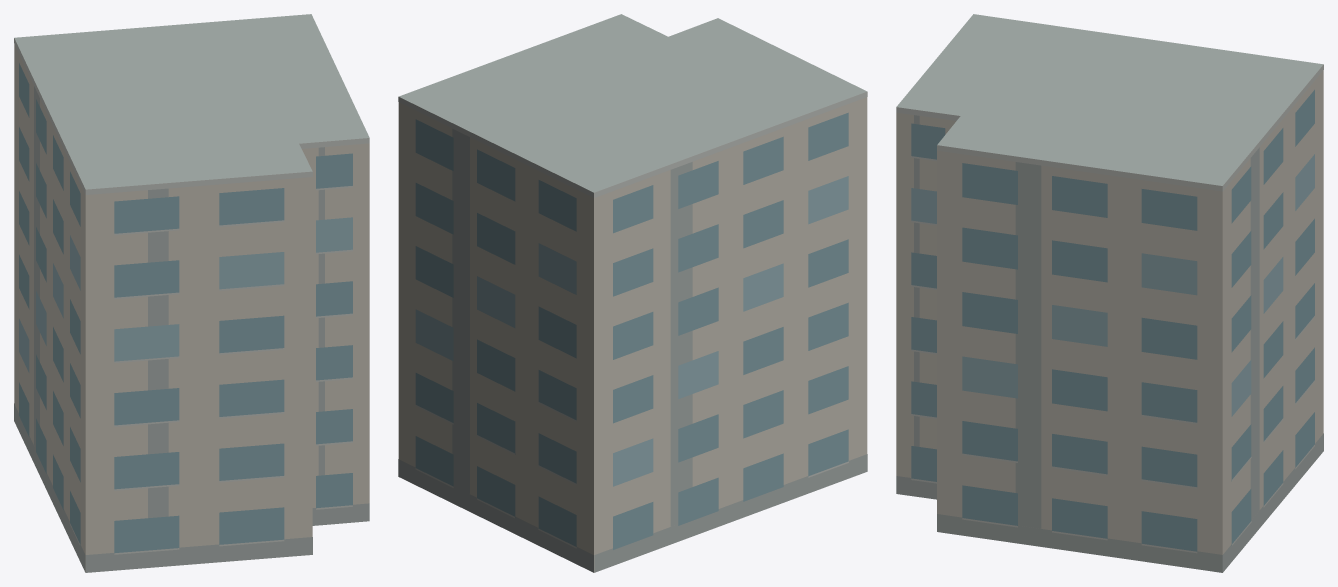
Rendered from survey-upis-32974023.glb.
3 renders of one model, left to right at view 1: azimuth 30°, elevation 25°; view 2: azimuth 150°, elevation 25°; view 3: azimuth 270°, elevation 25°, orthographic.
Parts seen in each view (by area): view 1: survey-upis-32974023.tmp; view 2: survey-upis-32974023.tmp; view 3: survey-upis-32974023.tmp.
Boxes of the visible parts, x1,y1,x2,y2 form: survey-upis-32974023.tmp: (14,14,369,572); survey-upis-32974023.tmp: (398,14,867,572); survey-upis-32974023.tmp: (896,14,1323,572).
Bounding box in the file's own units: 16.28 × 17.05 × 17.09.
